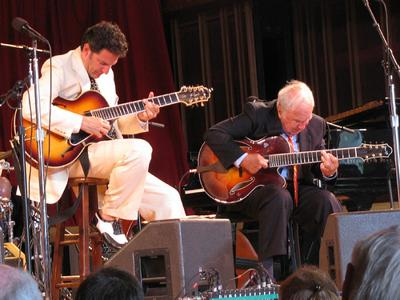person: (205, 82, 340, 282)
